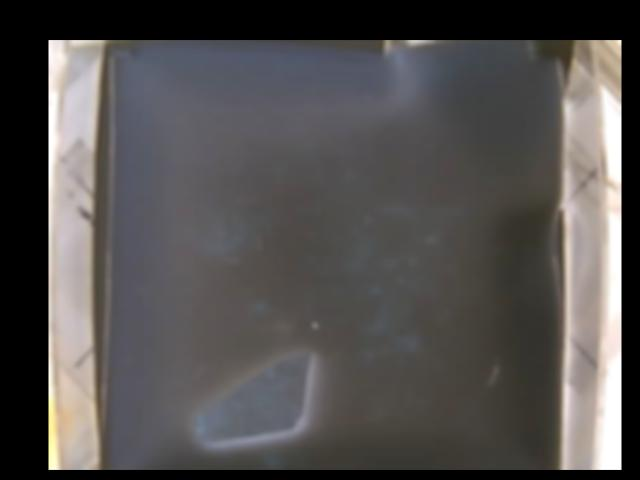China: (198, 350, 309, 442)
